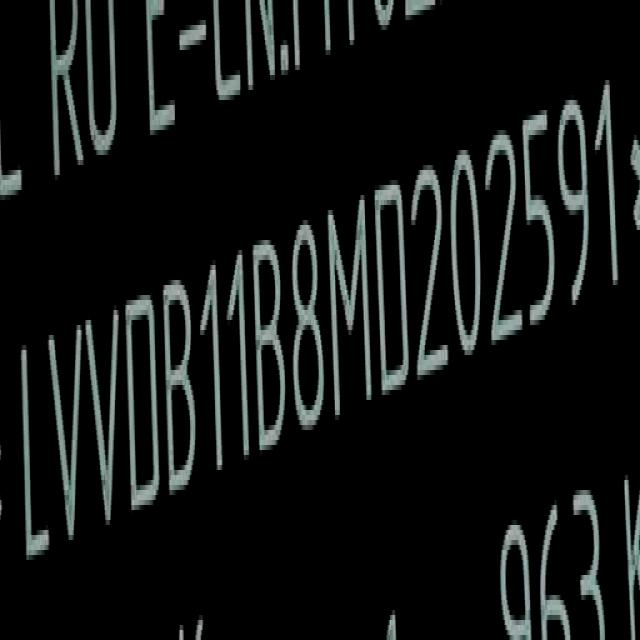0: (446, 150, 481, 366)
1: (597, 77, 623, 305), (202, 258, 225, 480), (228, 254, 251, 470)
2: (485, 119, 522, 349), (411, 165, 449, 382)
5: (521, 104, 556, 332)
8: (292, 217, 326, 432)
9: (557, 86, 592, 320)
B: (164, 278, 199, 496), (255, 236, 288, 456)
D: (376, 178, 414, 398), (126, 289, 162, 516)
L: (17, 338, 49, 570)
M: (329, 195, 375, 415)
V: (86, 303, 123, 540), (46, 318, 82, 558)
